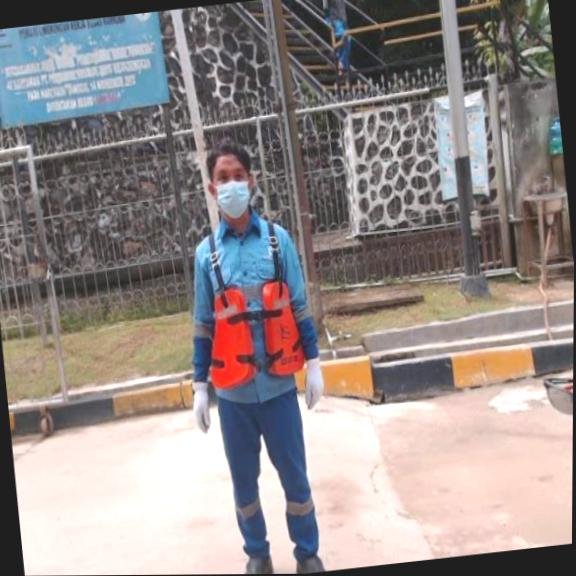safety_vest: (200, 273, 307, 388)
